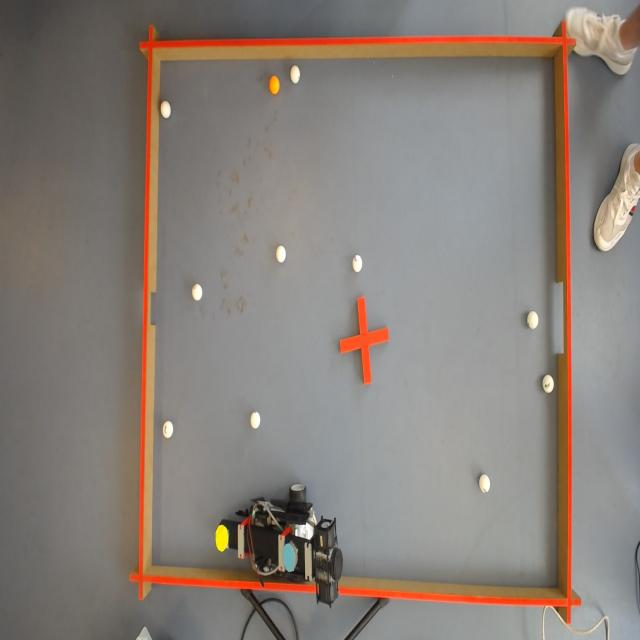orange: (268, 76, 281, 97)
robot: (215, 499, 352, 610)
robot-front: (215, 524, 230, 553)
robot-rear: (281, 541, 300, 567)
white: (542, 374, 554, 394), (526, 309, 538, 328), (352, 253, 363, 272), (250, 411, 262, 428), (479, 474, 490, 492), (291, 65, 302, 83), (161, 100, 172, 118), (192, 284, 202, 302), (276, 245, 287, 261), (164, 420, 174, 437)
